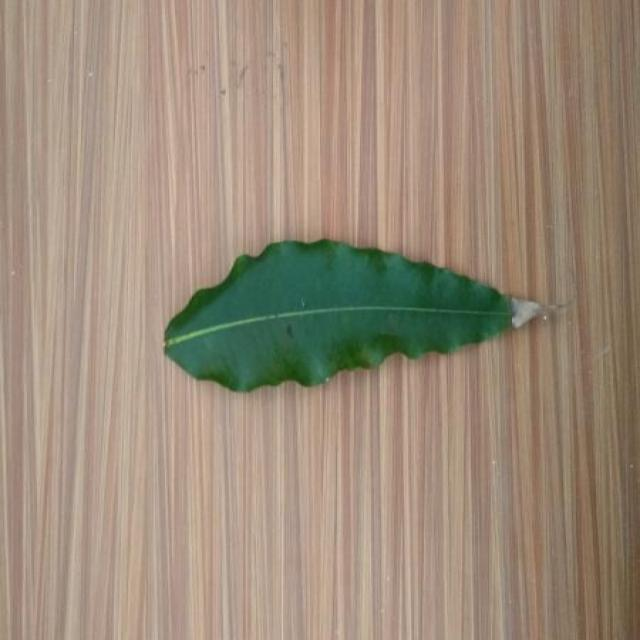ashoka: (165, 240, 555, 391)
defectedashoka: (511, 298, 565, 328)
